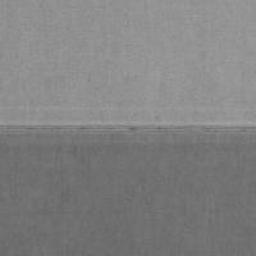Welding line: (0, 123, 256, 131)
